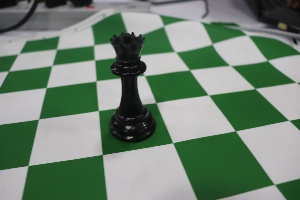black_queen: (95, 15, 161, 146)
